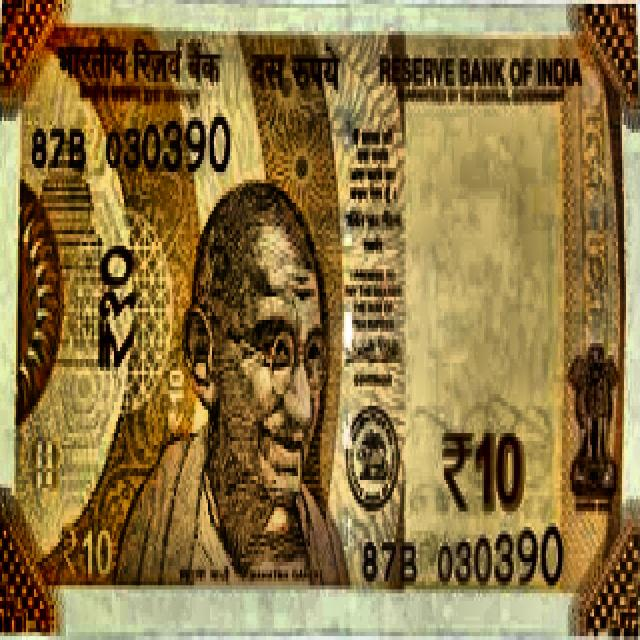-10-: (10, 2, 636, 614)
